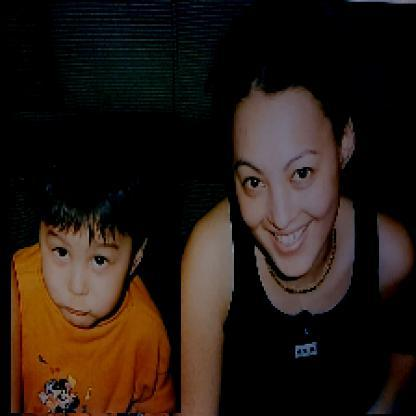child: (12, 113, 183, 415)
